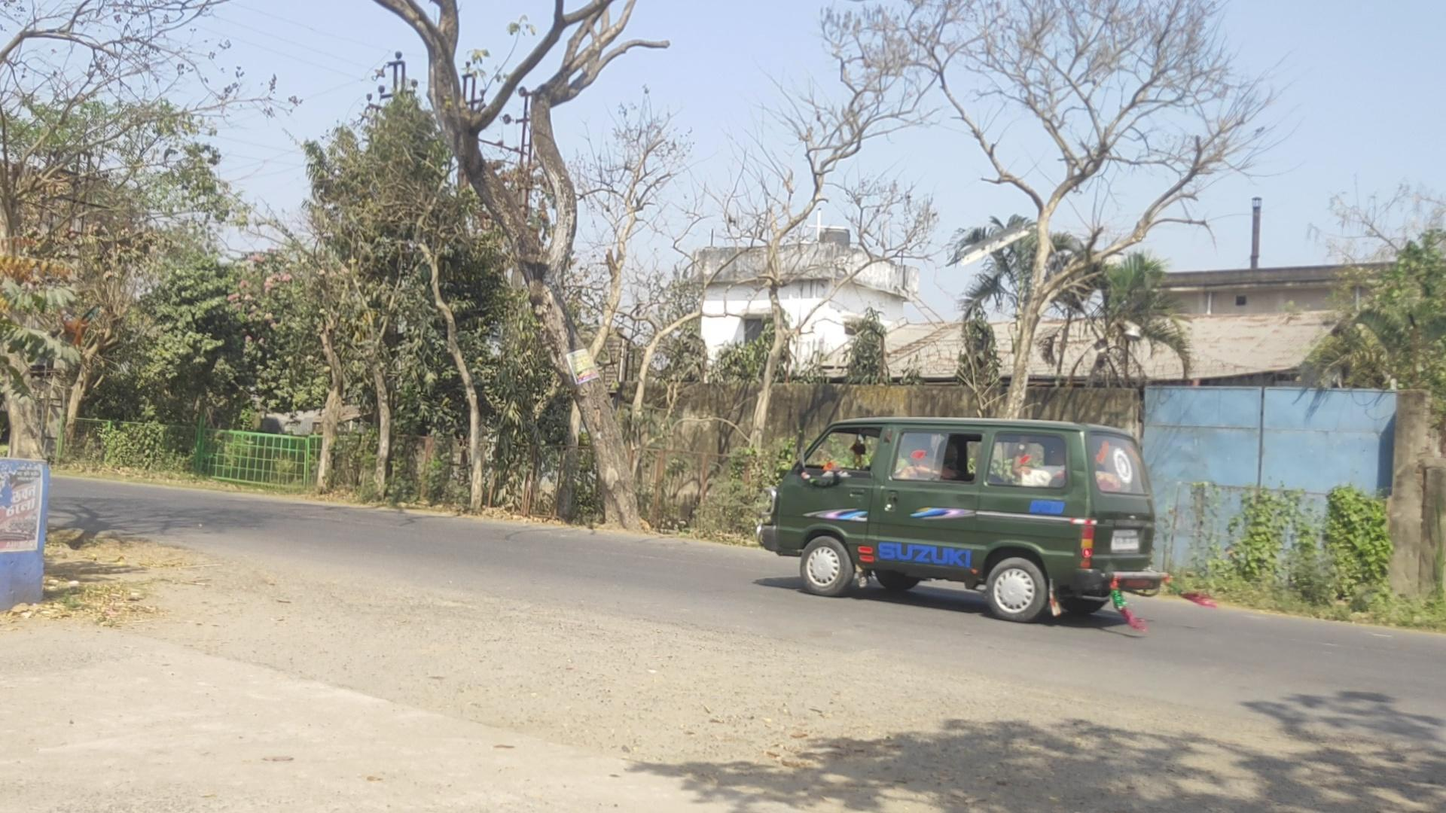van: (755, 416, 1169, 623)
